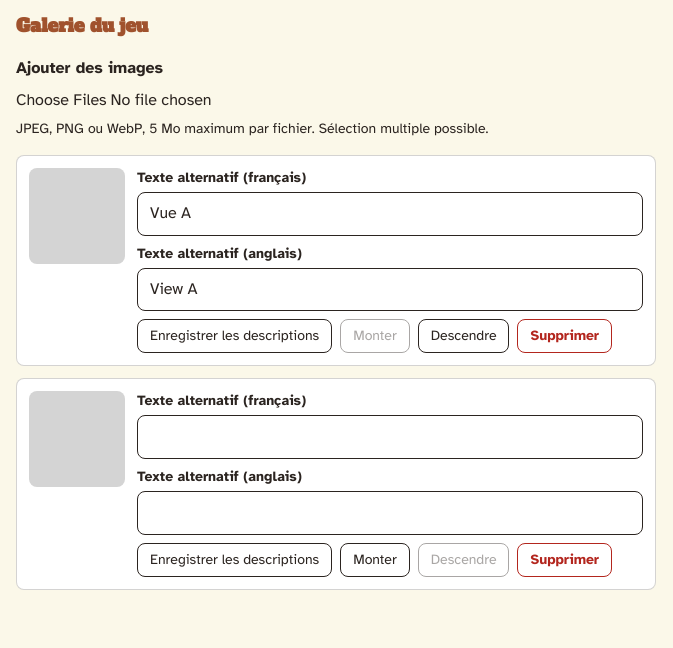
Test: GameMediaManager — alt, tri, suppression › enregistre l'alt FR/EN
The width and height of the screenshot is (673, 648).
Expected: the 1st field showing "Vue A" is shown, [137, 192, 643, 236]
Replace the text in the 1st field showing "View A" with "New view A" at (390, 290), box [137, 268, 643, 311]
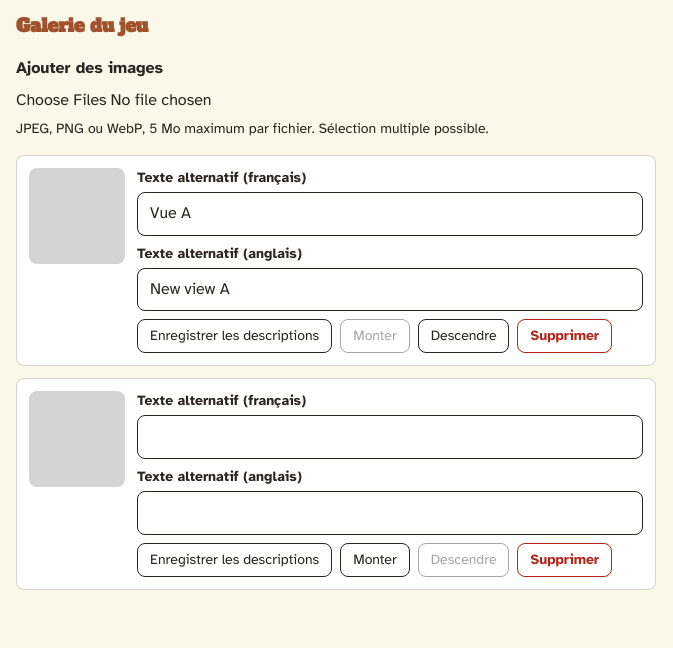
Click the 1st button "Enregistrer les descriptions".
click(235, 336)  # box [137, 319, 332, 353]
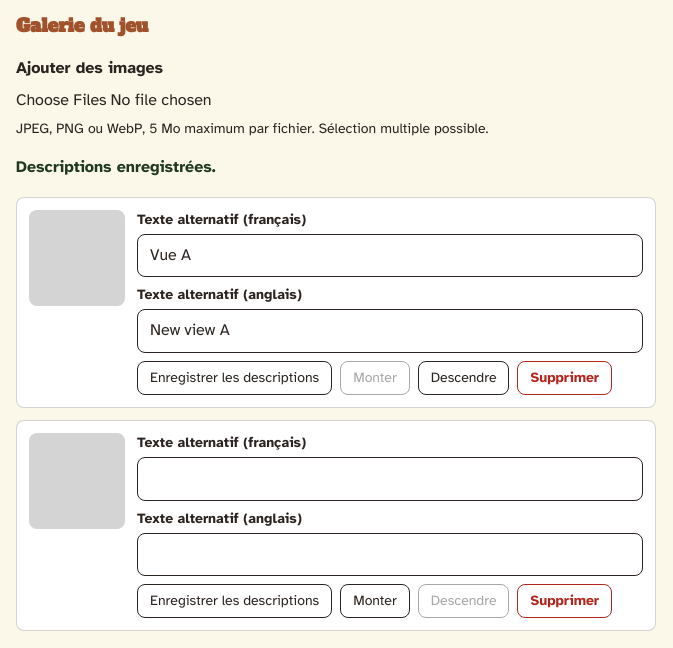
Expected: the text "Descriptions enregistrées." is shown, [16, 157, 216, 177]
